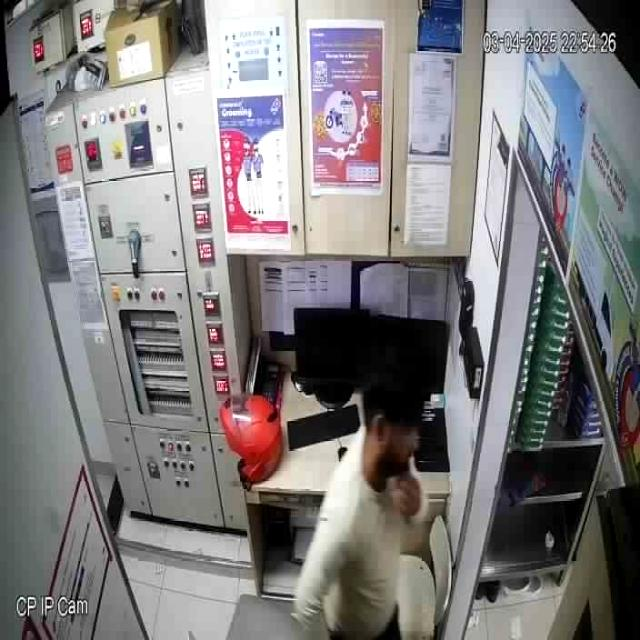helmet: (218, 394, 285, 485)
no_helmet: (362, 360, 427, 490)
